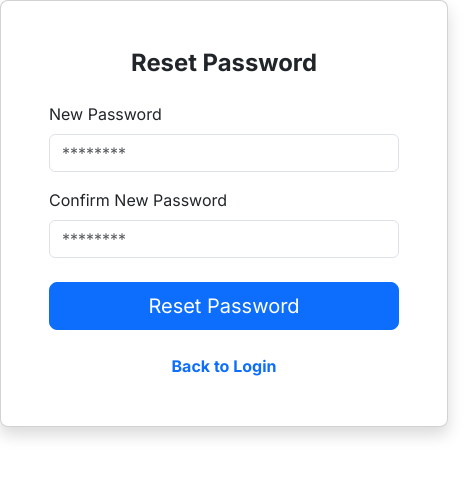
ResetPasswordForm › shows validation error for empty new password
The image size is (469, 481).
Click the button "Reset Password". click: (224,306)
box: x1=49 y1=282 x2=399 y2=330
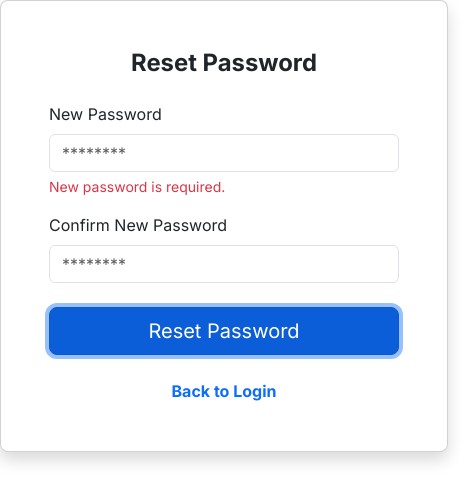
Now the text "New password is required." is shown, box x1=49 y1=178 x2=225 y2=195
